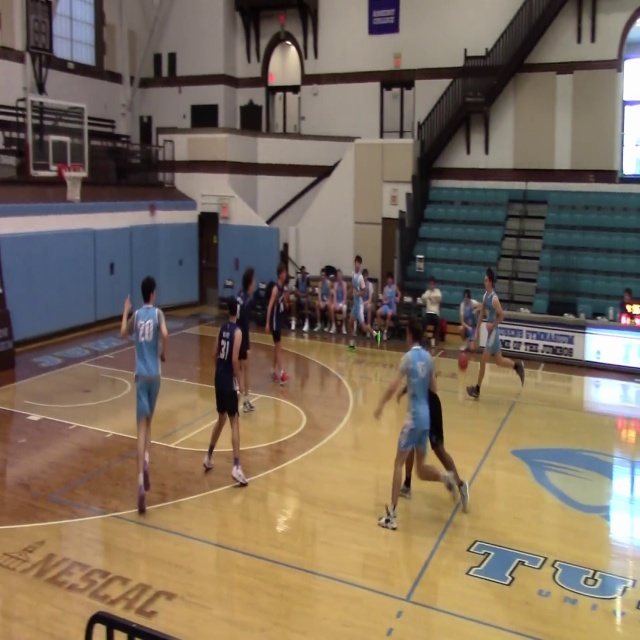Basketball: (458, 353, 468, 370), (280, 370, 289, 382)
